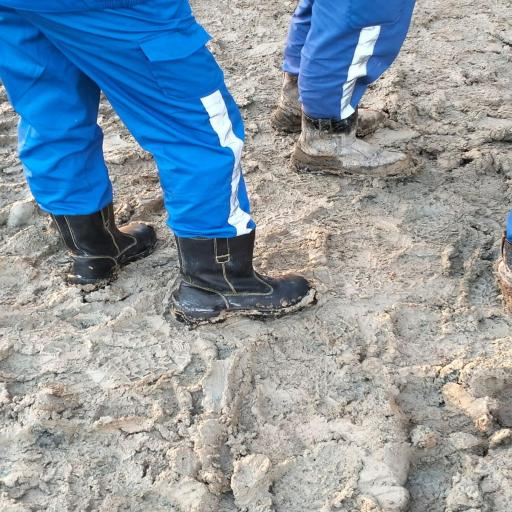safety_shoe: (162, 232, 316, 321), (291, 103, 421, 182), (30, 208, 166, 276)
